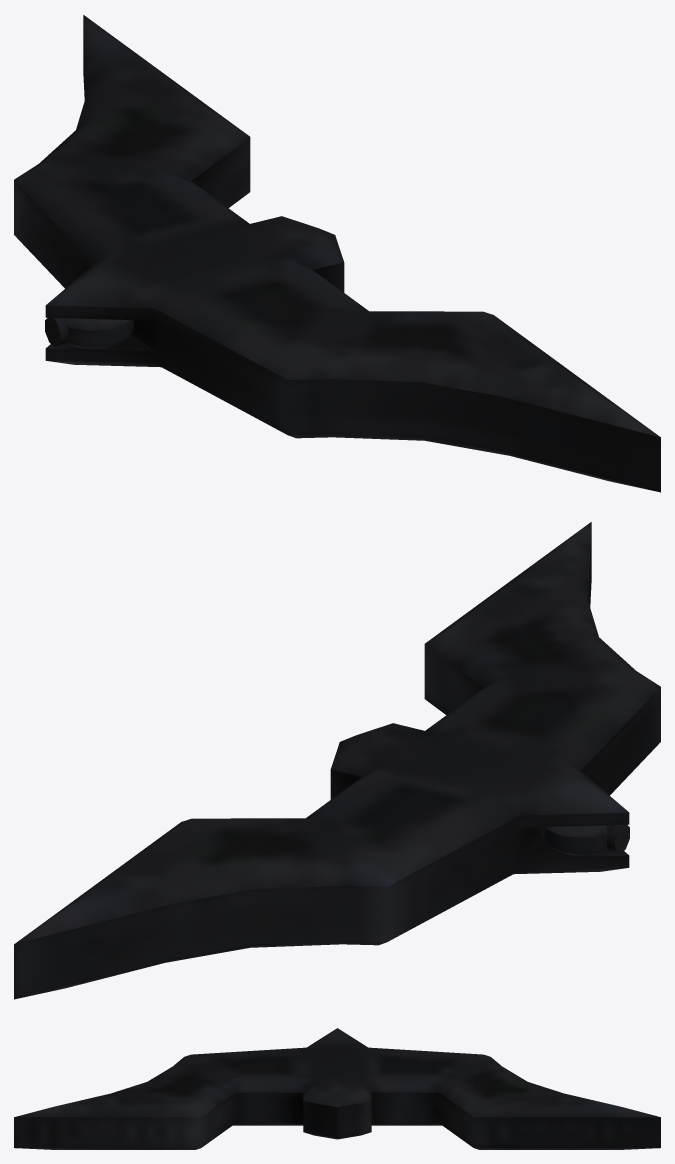
Rendered from Batarang_SM.glb.
3 renders of one model, top to bottom at view 1: azimuth 30°, elevation 25°; view 2: azimuth 150°, elevation 25°; view 3: azimuth 270°, elevation 25°, orthographic. The views are drawn at different scales.
Visible parts, largest first — view 1: Batarang_SM_0; view 2: Batarang_SM_0; view 3: Batarang_SM_0.
Part boxes in pixels (box(x1,y1,x2,y2)): Batarang_SM_0: box(14, 15, 660, 492); Batarang_SM_0: box(14, 522, 660, 999); Batarang_SM_0: box(14, 1028, 660, 1149).
Size of the model in its own units: 0.155 by 0.035 by 0.475.
1 material, 1 textured.
